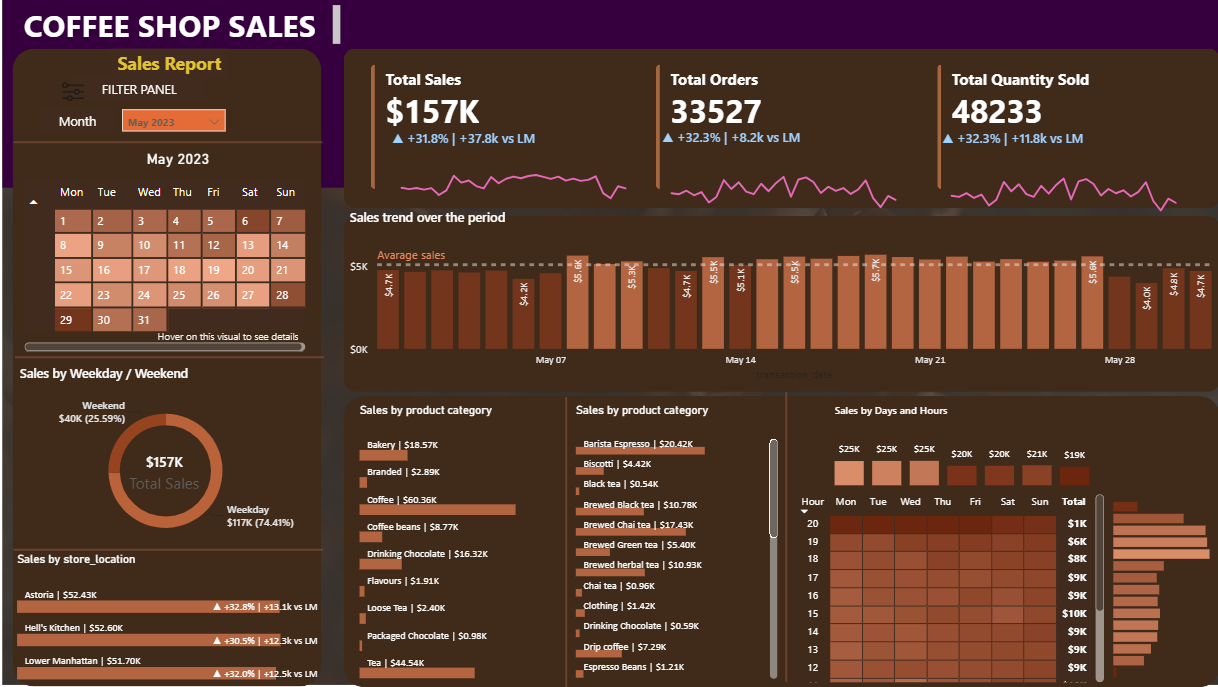

What the dashboard file says about the page in this screenshot:
{"tool":"powerbi","page":{"name":"Page 1","canvas":[1400,850],"ordinal":0},"visuals":[{"type":"shape","box":[59.8,61.2,1280.4,198],"z":0},{"type":"shape","box":[71.2,112.5,324.7,670.8],"z":1000},{"type":"shape","box":[419.2,113,921.2,168.2],"z":2000},{"type":"textbox","box":[60.5,61.8,360.1,51.3],"z":3000},{"type":"slicer","fields":{"Values":["Date Table.Month Year"]},"box":[181.4,172.2,118.3,34.2],"z":4000},{"type":"cardVisual","fields":{"Data":["Transactions.Total Sales"]},"box":[431,113,299.6,165.6],"z":5000},{"type":"lineChart","fields":{"Category":["Date Table.Date.Variation.Date Hierarchy.Year"],"Y":["Transactions.Total Sales"]},"box":[465.2,198.4,265.5,92],"z":6000},{"type":"cardVisual","fields":{"Data":["Transactions.Total Orders"]},"box":[730.7,113,299.6,165.6],"z":7000},{"type":"lineChart","fields":{"Category":["Date Table.Date.Variation.Date Hierarchy.Year"],"Y":["Transactions.Total Orders"]},"box":[749.1,197.1,265.5,89.4],"z":8000},{"type":"cardVisual","fields":{"Data":["Transactions.Total Quantity Sold"]},"box":[1026.4,113,299.6,165.6],"z":9000},{"type":"lineChart","fields":{"Category":["Date Table.Date.Variation.Date Hierarchy.Year"],"Y":["Transactions.Total Orders"]},"box":[1043.4,198.4,265.7,91.6],"z":10000},{"type":"pivotTable","fields":{"Columns":["Date Table.Day Name"],"Values":["Min(Date Table.Day Number)"],"Rows":["Date Table.Week Number"]},"box":[78.9,247.1,304.9,189.2],"z":11000},{"type":"cardVisual","fields":{"Data":["Min(Date Table.Month Year)"]},"box":[180,201.1,130.6,54],"z":12000},{"type":"cardVisual","fields":{"Data":["Transactions.Foot Note"]},"box":[190.6,391.6,214.6,45],"z":13000},{"type":"shape","box":[680.7,478.4,19.7,304.9],"z":14000},{"type":"shape","box":[72.3,201.1,324.6,21],"z":15000},{"type":"donutChart","title":"Sales by Weekday / Weekend","fields":{"Category":["Date Table.Weekday / Weekend"],"Y":["Transactions.Total Sales"]},"box":[73.6,445.5,316.7,194.5],"z":16000},{"type":"cardVisual","fields":{"Data":["Transactions.Total Sales"]},"box":[163,523,135.4,71],"z":17000},{"type":"shape","box":[72.3,629.5,324.6,21],"z":18000},{"type":"shape","box":[419.2,478.4,921.2,306.2],"z":19000},{"type":"clusteredBarChart","title":"  Sales by store_location","fields":{"Category":["Transactions.store_location"],"Y":["Transactions.Placeholder","Transactions.Total Sales"]},"box":[71,642.6,325.9,140.6],"z":20000},{"type":"shape","box":[419.2,289.1,921.5,185],"z":21000},{"type":"columnChart","title":" Sales trend over the period","fields":{"Category":["Transactions.transaction_date"],"Y":["Transactions.Total Sales"]},"box":[420.5,281.2,921.2,185.3],"z":22000},{"type":"clusteredBarChart","title":"  Sales by product category","fields":{"Y":["Transactions.Placeholder","Transactions.Total Sales"],"Category":["Transactions.product_category"]},"box":[431,486.2,227.4,294.4],"z":23000},{"type":"shape","box":[73.6,427.1,324.6,21],"z":24000},{"type":"shape","box":[879.2,474.4,10.5,304.9],"z":25000},{"type":"clusteredBarChart","title":"  Sales by product category","fields":{"Y":["Transactions.Placeholder","Transactions.Total Sales"],"Category":["Transactions.product_type"]},"box":[658.4,486.2,222.1,294.4],"z":27000},{"type":"shape","box":[647.9,479.7,10.5,304.9],"z":28000},{"type":"pivotTable","fields":{"Rows":["Transactions.Hour"],"Columns":["Date Table.Day Name"],"Values":["Transactions.Total Sales"]},"box":[889.7,576.9,333.8,207.6],"z":29000},{"type":"barChart","fields":{"Category":["Transactions.Hour"],"Y":["Transactions.Total Sales"]},"box":[1223.5,576.9,113,202.4],"z":29001},{"type":"columnChart","title":"Sales by Days and Hours","fields":{"Y":["Transactions.Total Sales"],"Category":["Date Table.Day Name"]},"box":[930.4,486.2,278.6,92],"z":29002},{"type":"shape","box":[98.6,177.4,81.5,23.7],"z":29003},{"type":"shape","box":[174.8,113,122.2,30.2],"z":29004},{"type":"shape","box":[134,143.2,140.6,23.7],"z":29005},{"type":"image","box":[117,143.2,35.5,30.2],"z":29006}]}

Visuals, with their boxes on the page's 1400x850 design canvas (x1, y1, x2, y2). These are canvas units, not pixel positions in the 1218x687 screenshot, which may show the page scaled, cropped or inside an application window:
shape: l=60, t=61, r=1340, b=259
shape: l=71, t=112, r=396, b=783
shape: l=419, t=113, r=1340, b=281
textbox: l=60, t=62, r=421, b=113
slicer - Date Table.Month Year: l=181, t=172, r=300, b=206
cardVisual - Transactions.Total Sales: l=431, t=113, r=731, b=279
lineChart - Date Table.Date.Variation.Date Hierarchy.Year x Transactions.Total Sales: l=465, t=198, r=731, b=290
cardVisual - Transactions.Total Orders: l=731, t=113, r=1030, b=279
lineChart - Date Table.Date.Variation.Date Hierarchy.Year x Transactions.Total Orders: l=749, t=197, r=1015, b=286
cardVisual - Transactions.Total Quantity Sold: l=1026, t=113, r=1326, b=279
lineChart - Date Table.Date.Variation.Date Hierarchy.Year x Transactions.Total Orders: l=1043, t=198, r=1309, b=290
pivotTable - Date Table.Day Name x Min(Date Table.Day Number): l=79, t=247, r=384, b=436
cardVisual - Min(Date Table.Month Year): l=180, t=201, r=311, b=255
cardVisual - Transactions.Foot Note: l=191, t=392, r=405, b=437
shape: l=681, t=478, r=700, b=783
shape: l=72, t=201, r=397, b=222
"Sales by Weekday / Weekend" donutChart: l=74, t=446, r=390, b=640
cardVisual - Transactions.Total Sales: l=163, t=523, r=298, b=594
shape: l=72, t=630, r=397, b=650
shape: l=419, t=478, r=1340, b=785
"  Sales by store_location" clusteredBarChart: l=71, t=643, r=397, b=783
shape: l=419, t=289, r=1341, b=474
" Sales trend over the period" columnChart: l=420, t=281, r=1342, b=466
"  Sales by product category" clusteredBarChart: l=431, t=486, r=658, b=781
shape: l=74, t=427, r=398, b=448
shape: l=879, t=474, r=890, b=779
"  Sales by product category" clusteredBarChart: l=658, t=486, r=880, b=781
shape: l=648, t=480, r=658, b=785
pivotTable - Transactions.Hour x Date Table.Day Name: l=890, t=577, r=1224, b=784
barChart - Transactions.Hour x Transactions.Total Sales: l=1224, t=577, r=1336, b=779
"Sales by Days and Hours" columnChart: l=930, t=486, r=1209, b=578
shape: l=99, t=177, r=180, b=201
shape: l=175, t=113, r=297, b=143
shape: l=134, t=143, r=275, b=167
image: l=117, t=143, r=152, b=173
